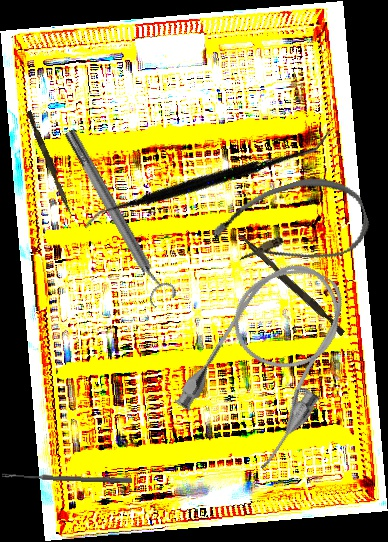Cannula: (168, 243, 375, 476), (205, 163, 377, 292)
Fixation Ring: (56, 123, 180, 310)
Pusher: (233, 231, 348, 337), (23, 110, 77, 216)
Spatula Surgical: (82, 47, 332, 310)
Surgical Spoon: (1, 472, 133, 484)
